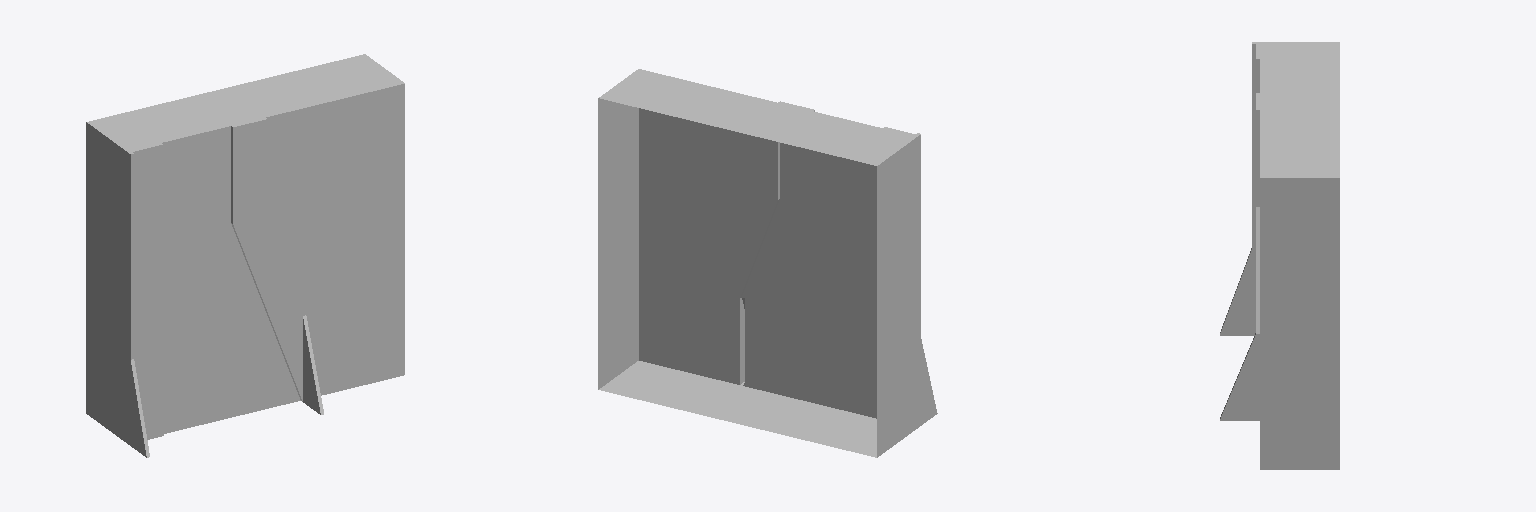
The model's file is track-pit-exitlane-small.obj.
3 views of the same model, side by side, from view 1: azimuth 30°, elevation 25°; view 2: azimuth 150°, elevation 25°; view 3: azimuth 270°, elevation 25° (orthographic).
Visible parts, largest first — view 1: track-pit-exitlane-small_Cube.004; view 2: track-pit-exitlane-small_Cube.004; view 3: track-pit-exitlane-small_Cube.004.
Part boxes in pixels (left/top/right/bottom): track-pit-exitlane-small_Cube.004: left=86, top=54, right=404, bottom=457; track-pit-exitlane-small_Cube.004: left=598, top=69, right=937, bottom=457; track-pit-exitlane-small_Cube.004: left=1220, top=42, right=1339, bottom=469.
Bounding box in the file's own units: 8 × 8 × 3.